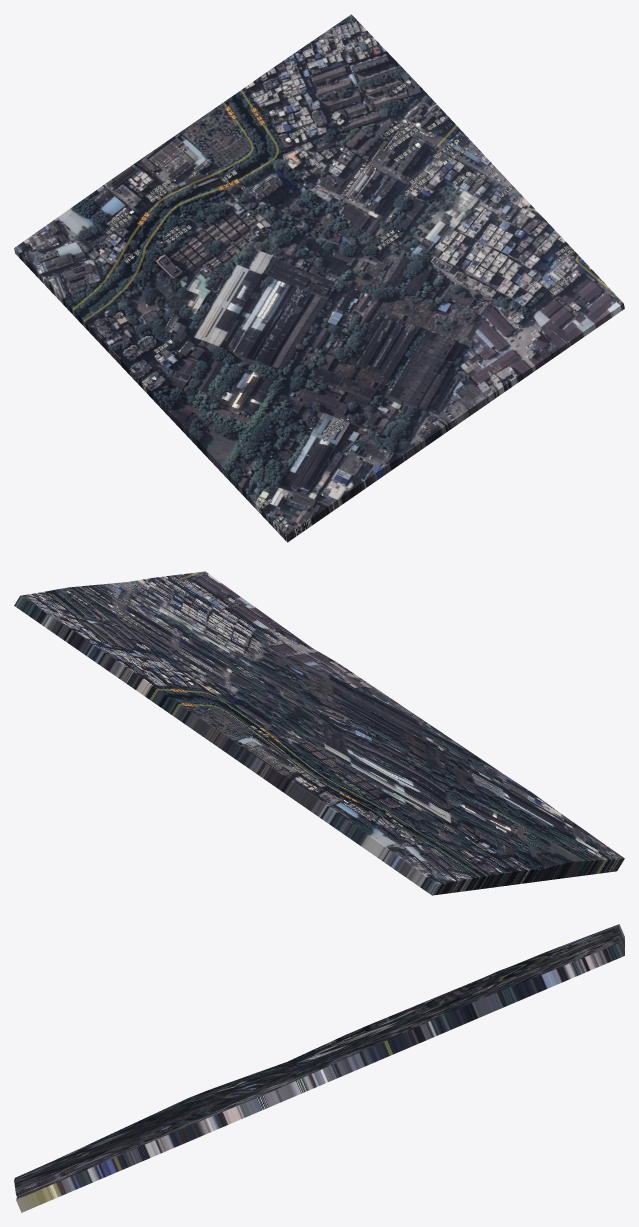
The picture shows the model from 3 angles, top to bottom: view 1: azimuth 30°, elevation 25°; view 2: azimuth 150°, elevation 25°; view 3: azimuth 270°, elevation 25°; orthographic projection. The views are drawn at different scales.
Parts seen in each view (by area): view 1: 0_16_6; view 2: 0_16_6; view 3: 0_16_6.
Part boxes in pixels (bbox=[...]): 0_16_6: bbox=[14, 14, 624, 542]; 0_16_6: bbox=[14, 571, 624, 895]; 0_16_6: bbox=[14, 924, 624, 1212].
Size of the model in its own units: 597 by 438 by 549.
Materials: 1 (1 with a texture image).
